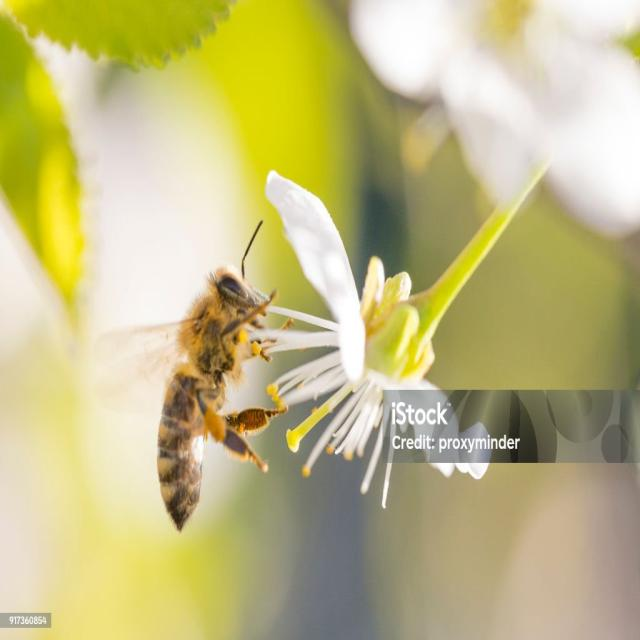bee: (66, 217, 295, 536)
